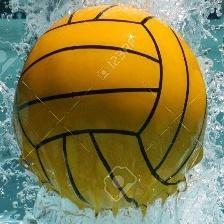Sports-Ball: (14, 9, 208, 207)
